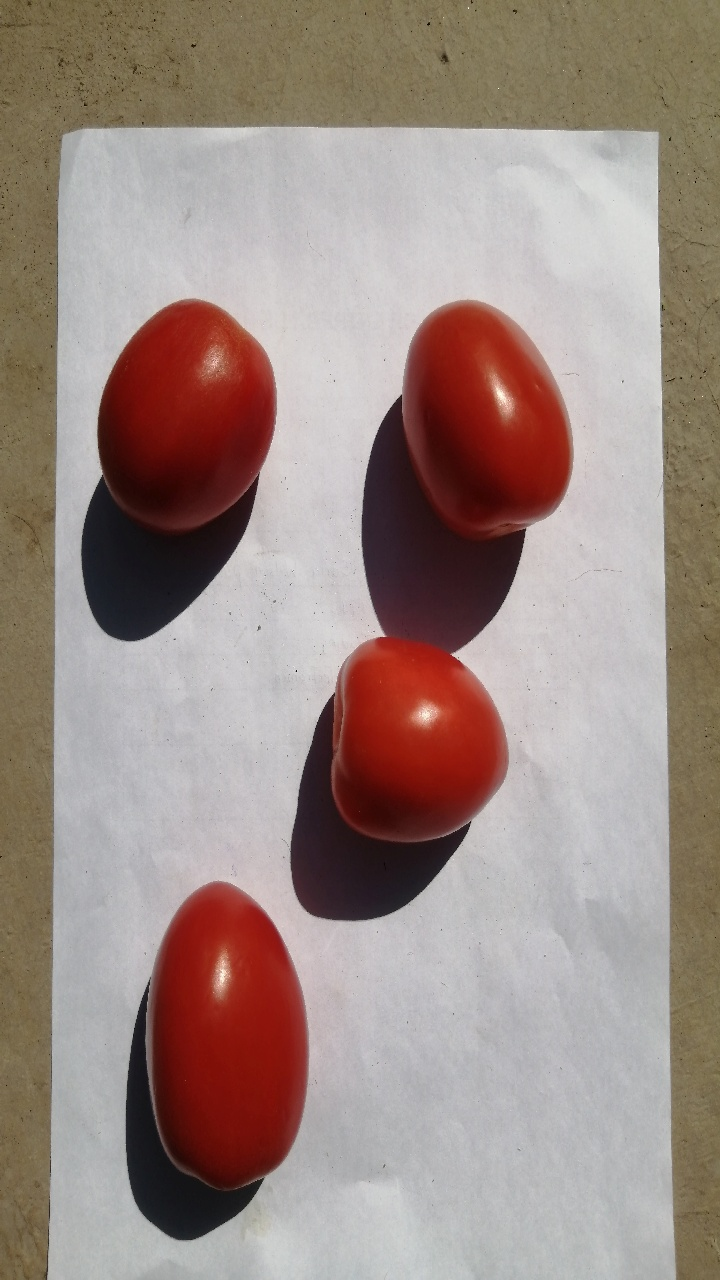tomateRojo: (117, 863, 320, 1200), (378, 285, 623, 559), (300, 611, 538, 880), (78, 262, 298, 552)
